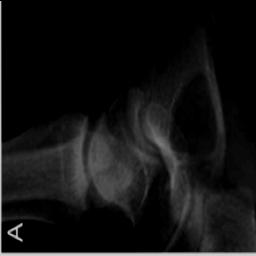cancer: (168, 72, 221, 156)
